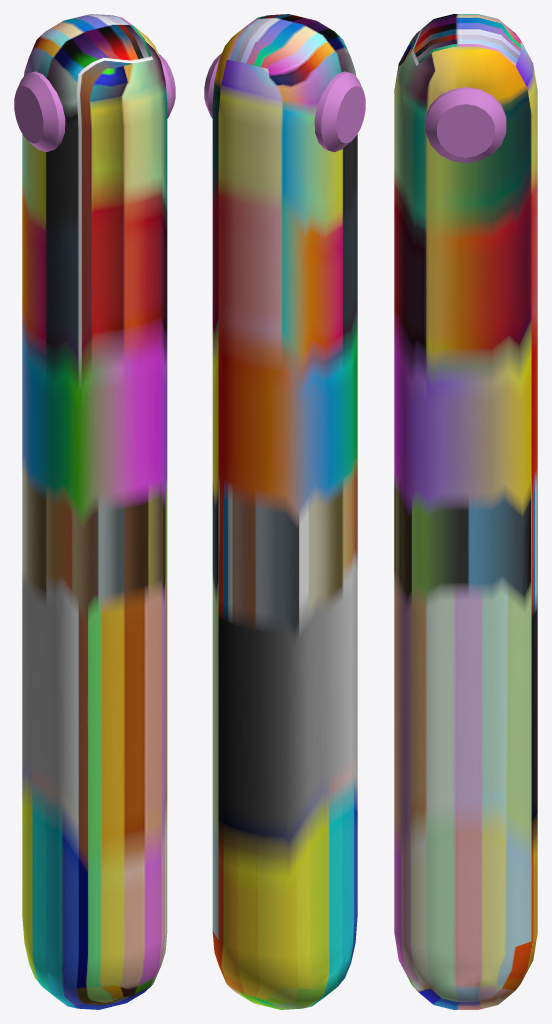
Rendered from TallDoor.fbx.
3 views of the same model, side by side, from view 1: azimuth 30°, elevation 25°; view 2: azimuth 150°, elevation 25°; view 3: azimuth 270°, elevation 25° (orthographic).
Visible parts, largest first — view 1: Cube.017, Cube.035; view 2: Cube.017, Cube.035; view 3: Cube.017, Cube.035.
Part boxes in pixels (<box>): Cube.017: <box>22,14,167,1009</box>; Cube.035: <box>14,53,175,152</box>; Cube.017: <box>212,14,357,1009</box>; Cube.035: <box>204,53,365,152</box>; Cube.017: <box>394,14,537,1009</box>; Cube.035: <box>425,87,506,163</box>.
Size of the model in its own units: 0.7363 by 5.18 by 0.6915.
